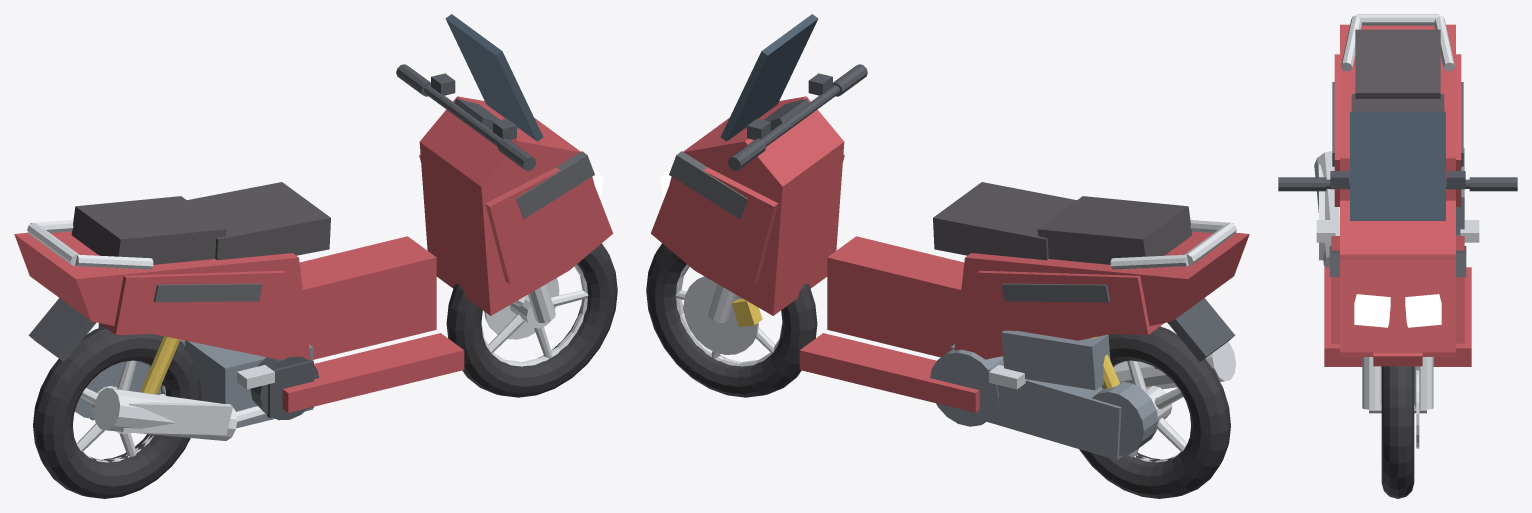
Rendered from honda-adv-160-2022-2026.glb.
3 views of the same model, side by side, from view 1: azimuth 30°, elevation 25°; view 2: azimuth 150°, elevation 25°; view 3: azimuth 270°, elevation 25° (orthographic). The views are drawn at different scales.
Parts seen in each view (by area): view 1: Bodi_Utama, Roda_Ban, Jok_Motor, Cover_Knalpot, Windshield_Visor, Velg_Roda, Aksen_Bodi, Master_Rem_Stang, Mesin_Blok, Cover_Radiator, Spakbor_Belakang, Behel_Jok (+5 smaller); view 2: Bodi_Utama, Roda_Ban, Cover_CVT, Jok_Motor, Windshield_Visor, Aksen_Bodi, Master_Rem_Stang, Piringan_Depan, Velg_Roda, Spakbor_Belakang, Behel_Jok, Cover_Knalpot (+1 smaller); view 3: Bodi_Utama, Windshield_Visor, Jok_Motor, Roda_Ban, Master_Rem_Stang, Lampu_Depan, Behel_Jok, Suspensi_Depan, Cover_Knalpot, Aksen_Bodi, Footstep_Belakang, Spakbor_Depan (+2 smaller).
Boxes of the visible parts, left/top/right/bottom form: Bodi_Utama: left=14, top=96, right=612, bottom=412; Roda_Ban: left=33, top=243, right=617, bottom=498; Jok_Motor: left=71, top=182, right=330, bottom=268; Cover_Knalpot: left=93, top=387, right=266, bottom=440; Windshield_Visor: left=445, top=14, right=543, bottom=141; Velg_Roda: left=76, top=264, right=588, bottom=462; Aksen_Bodi: left=153, top=151, right=594, bottom=302; Master_Rem_Stang: left=396, top=64, right=536, bottom=170; Mesin_Blok: left=185, top=340, right=313, bottom=428; Cover_Radiator: left=250, top=356, right=318, bottom=420; Spakbor_Belakang: left=28, top=298, right=96, bottom=361; Behel_Jok: left=27, top=220, right=153, bottom=269; Bodi_Utama: left=651, top=96, right=1249, bottom=412; Roda_Ban: left=646, top=243, right=1230, bottom=498; Cover_CVT: left=930, top=330, right=1158, bottom=460; Jok_Motor: left=933, top=182, right=1192, bottom=268; Windshield_Visor: left=720, top=14, right=818, bottom=141; Aksen_Bodi: left=669, top=151, right=1110, bottom=302; Master_Rem_Stang: left=727, top=64, right=867, bottom=170; Piringan_Depan: left=683, top=276, right=758, bottom=354; Velg_Roda: left=675, top=264, right=1187, bottom=462; Spakbor_Belakang: left=1167, top=298, right=1235, bottom=361; Behel_Jok: left=1110, top=220, right=1236, bottom=269; Cover_Knalpot: left=1103, top=342, right=1235, bottom=389; Bodi_Utama: left=1324, top=24, right=1471, bottom=366; Windshield_Visor: left=1350, top=111, right=1445, bottom=220; Jok_Motor: left=1351, top=29, right=1444, bottom=111; Roda_Ban: left=1381, top=366, right=1414, bottom=498; Master_Rem_Stang: left=1278, top=171, right=1517, bottom=191; Lampu_Depan: left=1354, top=294, right=1441, bottom=327; Behel_Jok: left=1341, top=14, right=1454, bottom=71; Suspensi_Depan: left=1362, top=357, right=1433, bottom=413; Cover_Knalpot: left=1314, top=151, right=1339, bottom=267; Aksen_Bodi: left=1329, top=82, right=1466, bottom=276; Footstep_Belakang: left=1316, top=220, right=1479, bottom=242; Spakbor_Depan: left=1373, top=352, right=1422, bottom=366.
Bounding box in the file's own units: 1.85 × 1.14 × 0.7.
